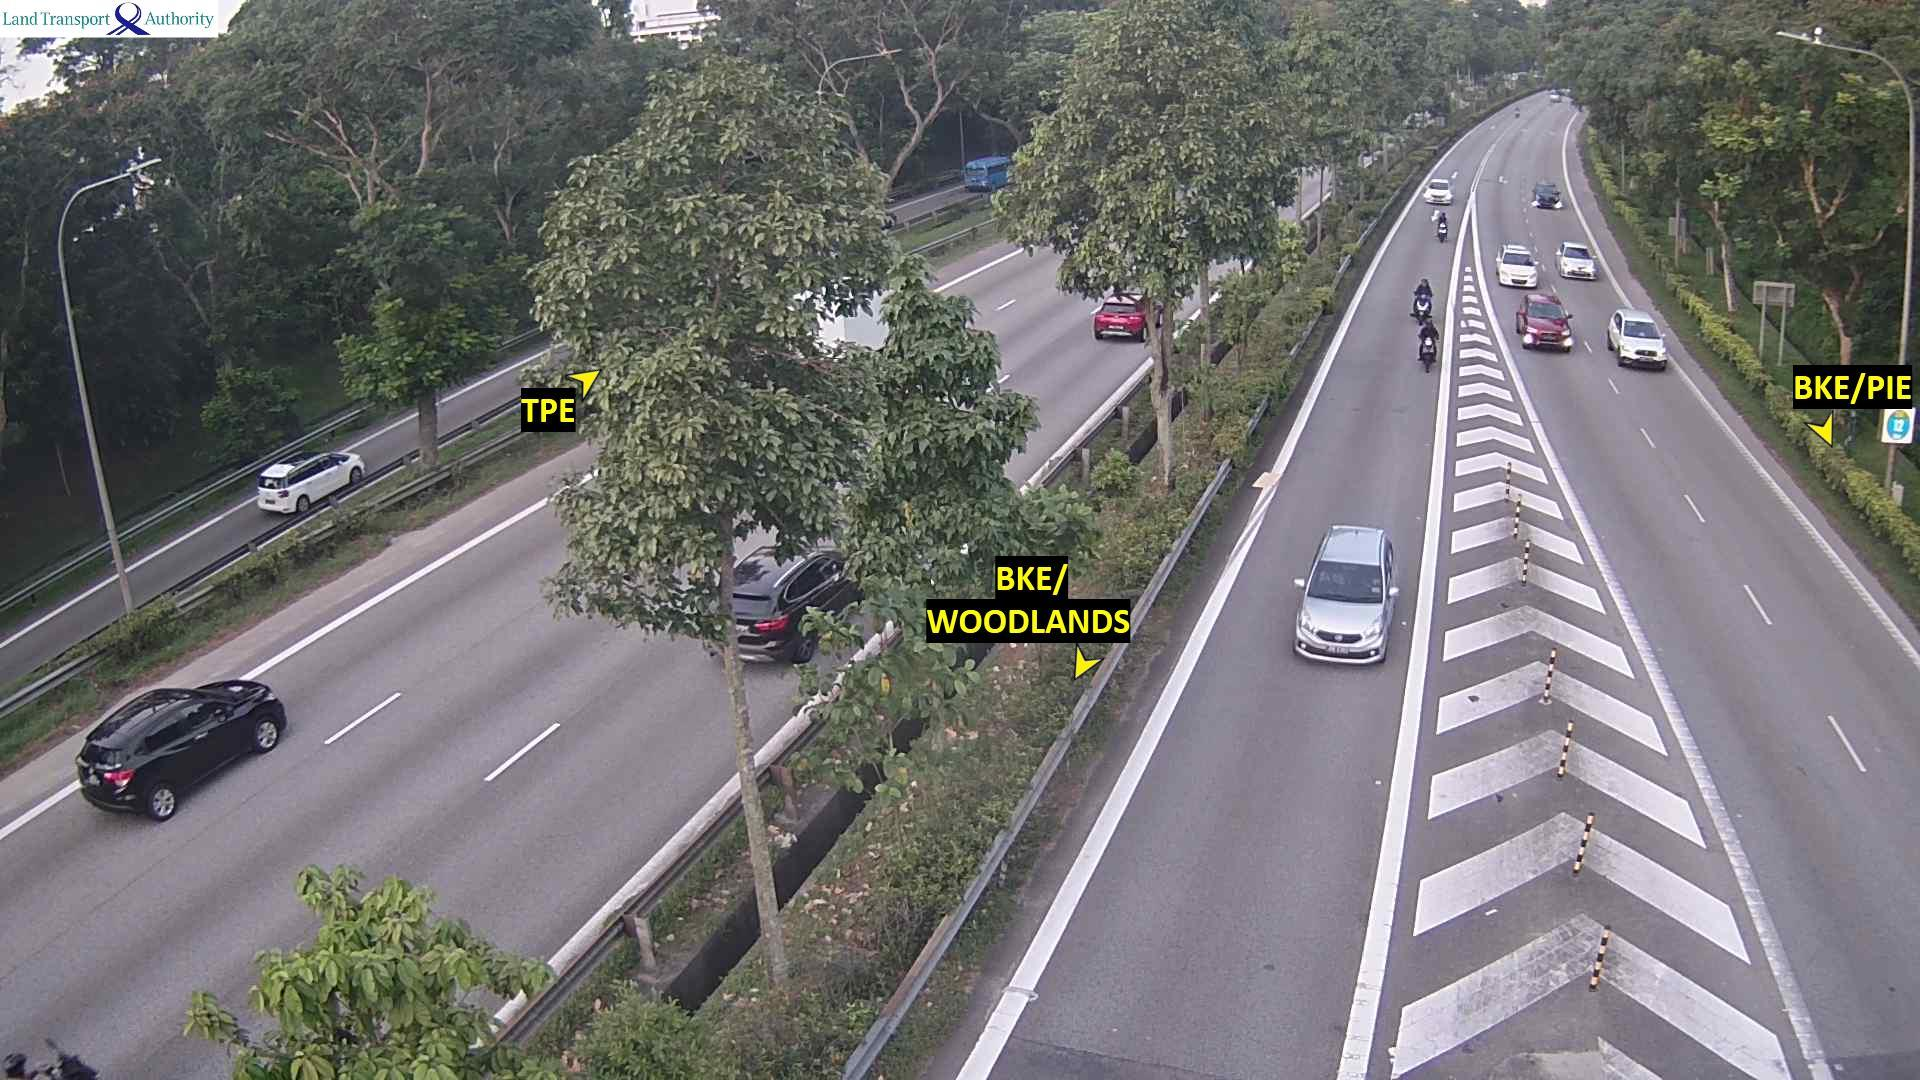bus: (961, 154, 1011, 192)
cars: (74, 678, 287, 821), (703, 543, 862, 665), (1292, 523, 1398, 665), (255, 449, 365, 515), (1606, 307, 1668, 369), (1514, 291, 1573, 351), (1091, 291, 1148, 341), (1494, 241, 1538, 287), (1555, 240, 1597, 280), (1532, 180, 1562, 209), (1423, 176, 1453, 205), (1548, 86, 1571, 102)
motorcycle: (1412, 314, 1438, 368), (1410, 293, 1432, 323), (1432, 210, 1448, 241)
